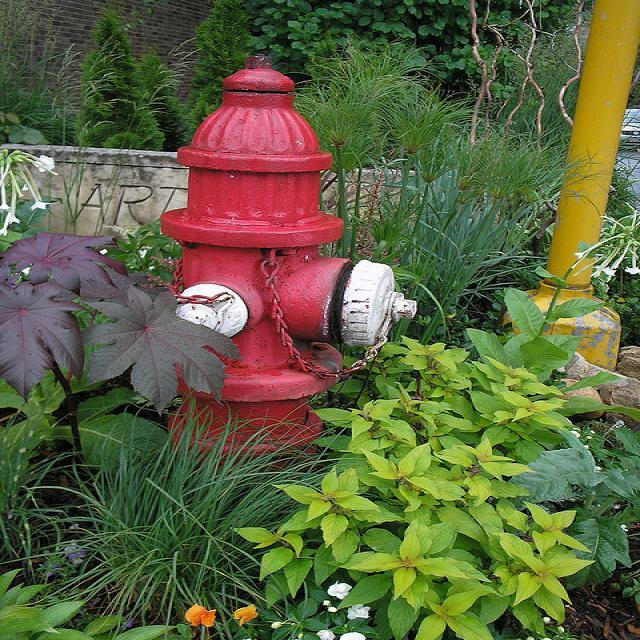fire_hydrant: (154, 57, 426, 454)
